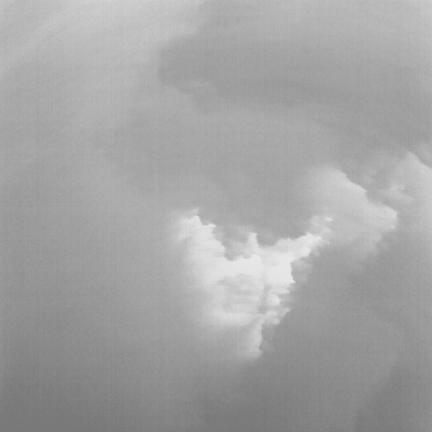flukeprints: (180, 213, 225, 257), (217, 255, 263, 280), (265, 255, 292, 288)
